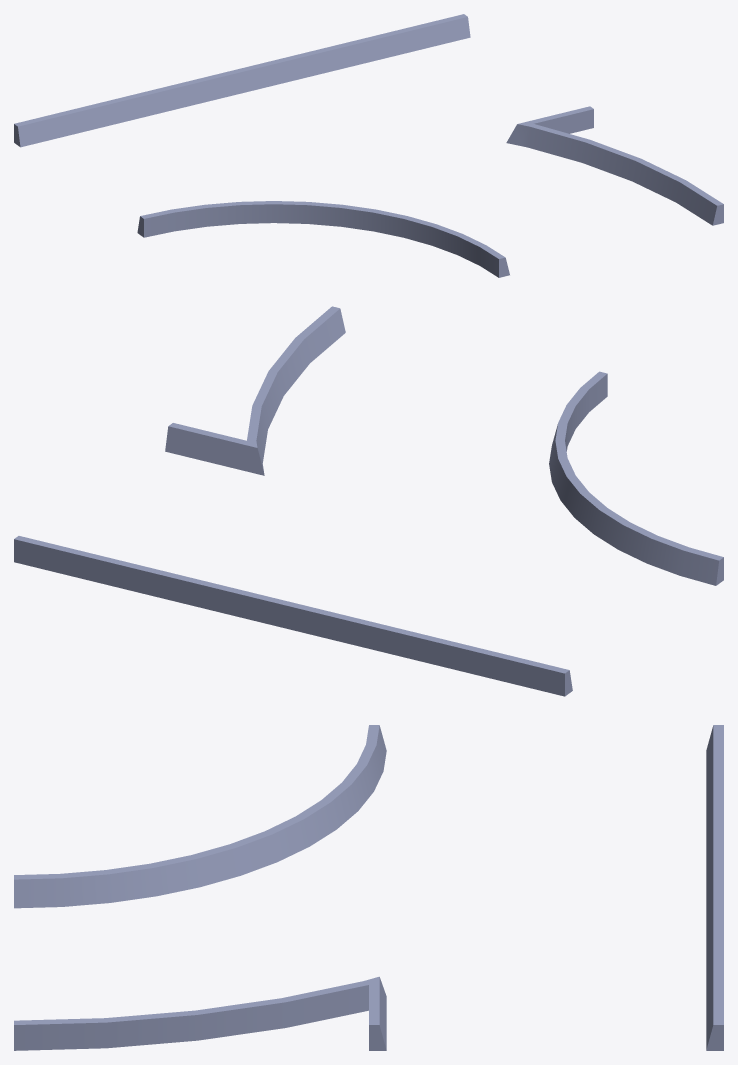
Rendered from road-curve-intersection-barrier.glb.
3 views of the same model, one above another, from view 1: azimuth 30°, elevation 25°; view 2: azimuth 150°, elevation 25°; view 3: azimuth 270°, elevation 25° (orthographic). The views are drawn at different scales.
Visible parts, largest first — view 1: road-curve-intersection-barrier; view 2: road-curve-intersection-barrier; view 3: road-curve-intersection-barrier.
Boxes of the visible parts, <box> form: road-curve-intersection-barrier: <box>14,14,723,277</box>; road-curve-intersection-barrier: <box>14,306,723,696</box>; road-curve-intersection-barrier: <box>14,725,723,1050</box>.
Bounding box in the file's own units: 2 × 0.08 × 2.
1 material, 1 textured.
